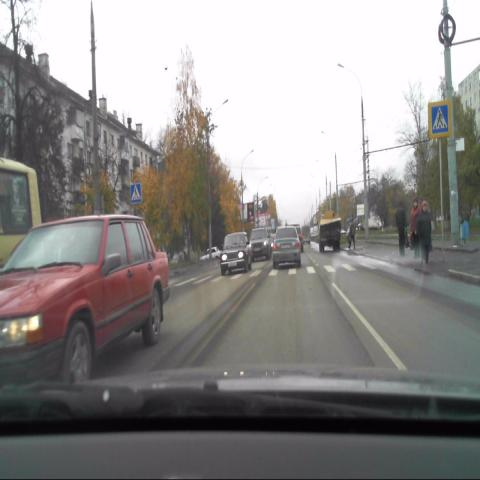5_19_1: (130, 181, 142, 203)
